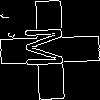M: (25, 25, 73, 69)
